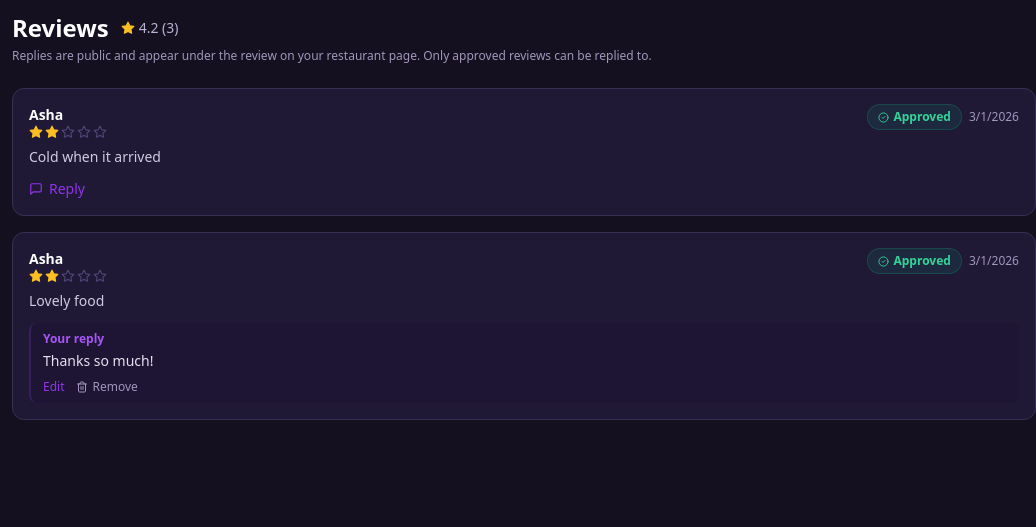
Test case: Owner Reviews page — replies › pre-fills the existing text when editing, so a typo fix is not a retype
Expected: the text "Thanks so much!" is shown, [43,351,154,370]
Click the button "Edit": coordinates (54, 387) [43,379,64,395]
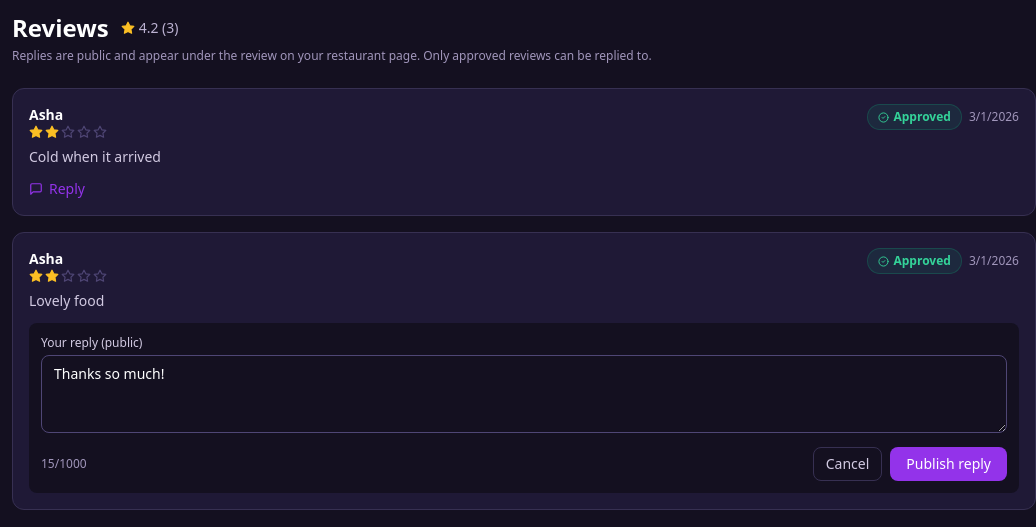
Expected: the text box labelled "Your reply (public)" holds "Thanks so much!", [41,355,1007,433]
